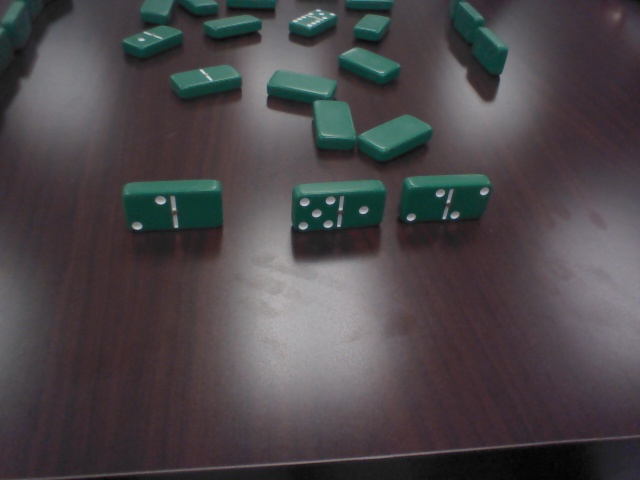A: (357, 106, 435, 166), (303, 93, 359, 152), (336, 40, 401, 87), (259, 62, 337, 100), (200, 9, 263, 41), (349, 10, 398, 47)
B: (167, 59, 243, 99), (116, 23, 186, 62), (282, 5, 339, 37)
C: (1, 1, 38, 49)
D: (469, 28, 510, 79), (452, 2, 487, 45)
E: (113, 175, 229, 237), (277, 178, 391, 234), (398, 175, 496, 226)
